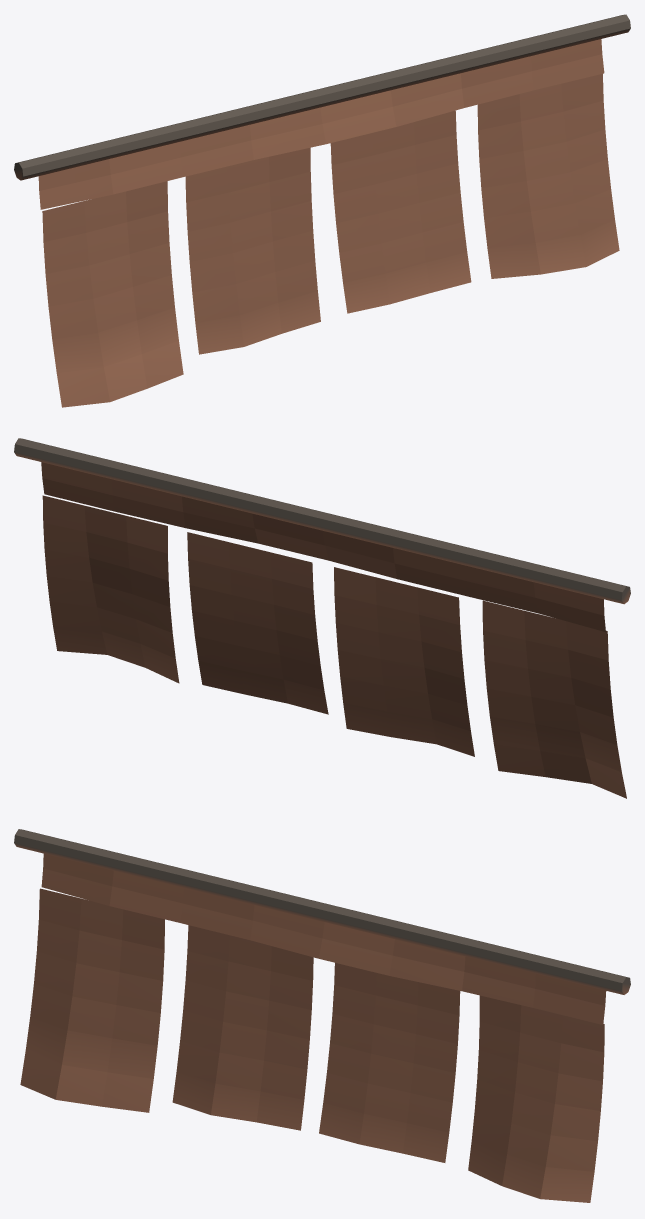
File: prop_noren_kaki.glb
The picture shows the model from 3 angles, top to bottom: view 1: azimuth 30°, elevation 25°; view 2: azimuth 150°, elevation 25°; view 3: azimuth 330°, elevation 25°; orthographic projection.
Visible parts, largest first — view 1: prop_noren_kaki; view 2: prop_noren_kaki; view 3: prop_noren_kaki.
Part boxes in pixels (x1,y1,x2,y2): prop_noren_kaki: [14, 14, 630, 407]; prop_noren_kaki: [14, 438, 630, 798]; prop_noren_kaki: [14, 829, 630, 1202].
Bounding box in the file's own units: 1.62 × 0.5992 × 0.1594.
